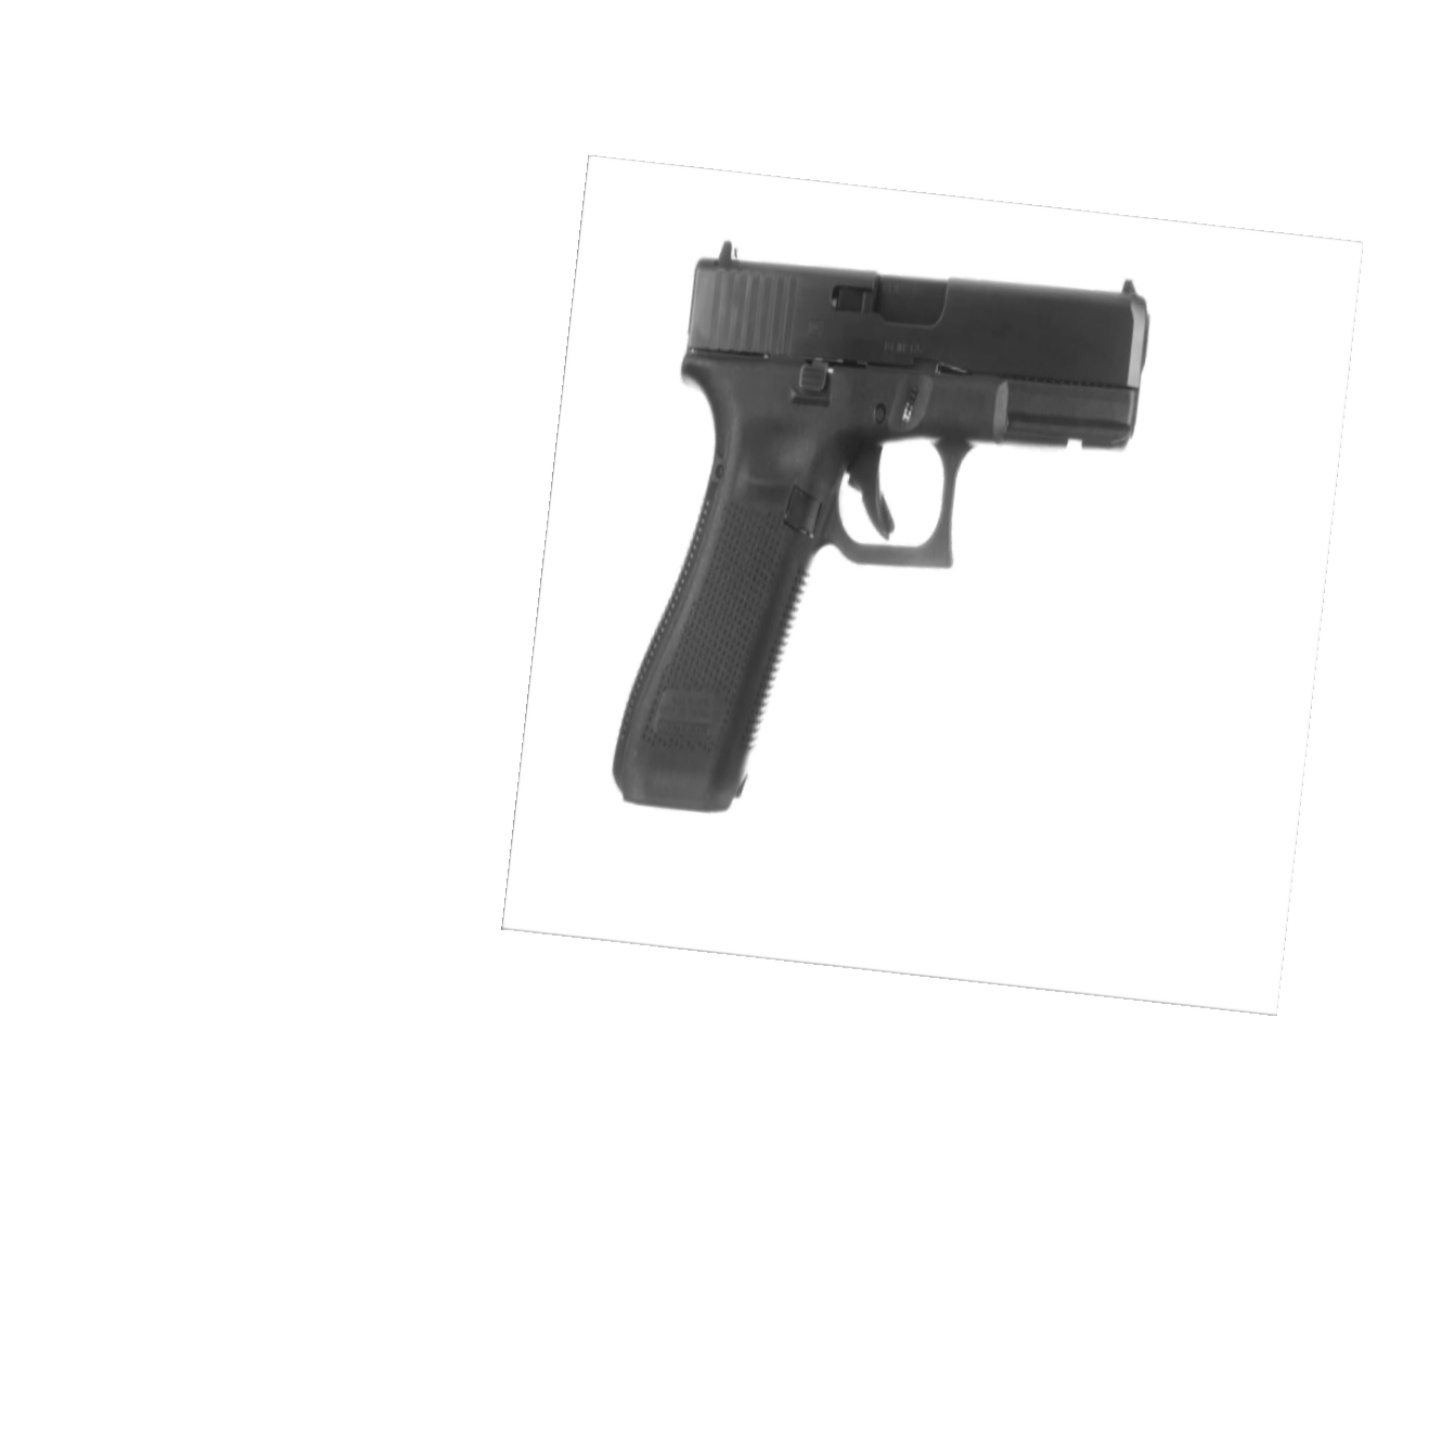gun: (608, 225, 1154, 819)
